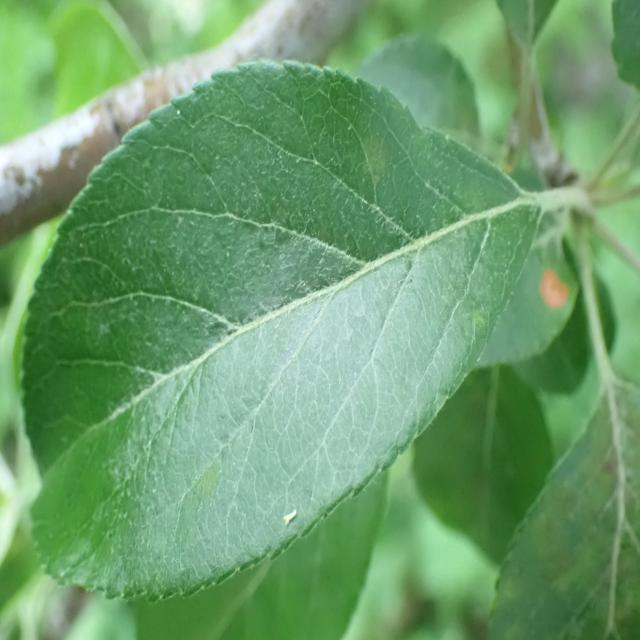scab: (134, 92, 454, 532)
